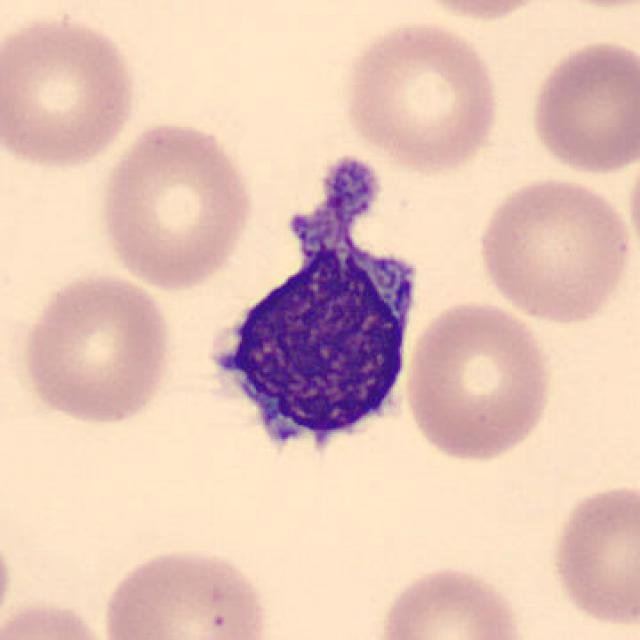Lymphocyte: (192, 152, 434, 481)
RBC: (94, 116, 260, 293), (338, 16, 505, 176), (400, 296, 556, 467), (18, 268, 178, 428), (471, 173, 635, 326), (0, 7, 142, 173), (98, 543, 274, 640), (524, 35, 638, 178), (546, 478, 638, 631), (371, 560, 529, 640), (0, 594, 117, 640), (405, 0, 560, 23)
